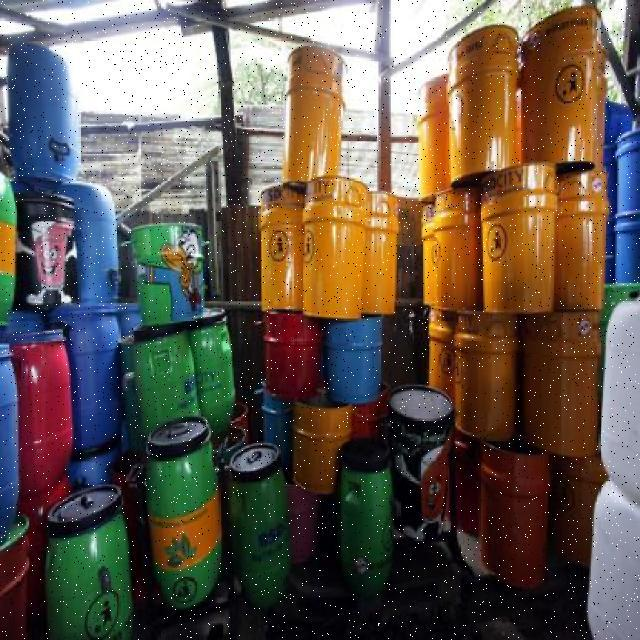garbage container: (144, 416, 230, 613), (521, 7, 609, 168), (44, 479, 130, 640), (443, 24, 523, 186), (224, 438, 289, 617), (474, 443, 551, 594), (6, 41, 80, 187), (299, 179, 372, 324), (336, 436, 398, 604), (282, 43, 355, 185)
